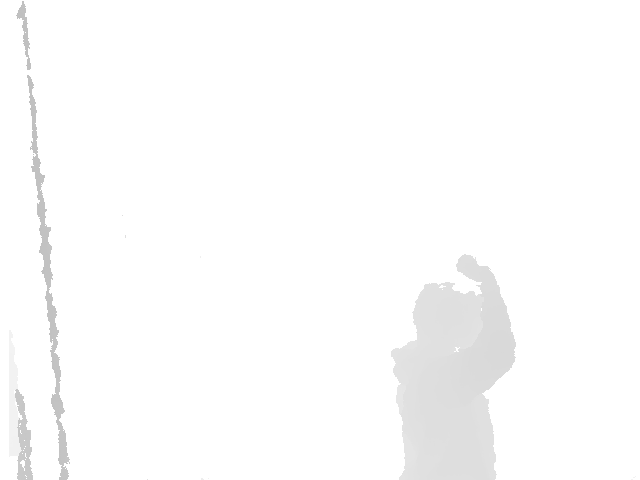hand: (456, 254, 498, 287)
head: (412, 283, 494, 351)
person: (389, 253, 518, 480)
